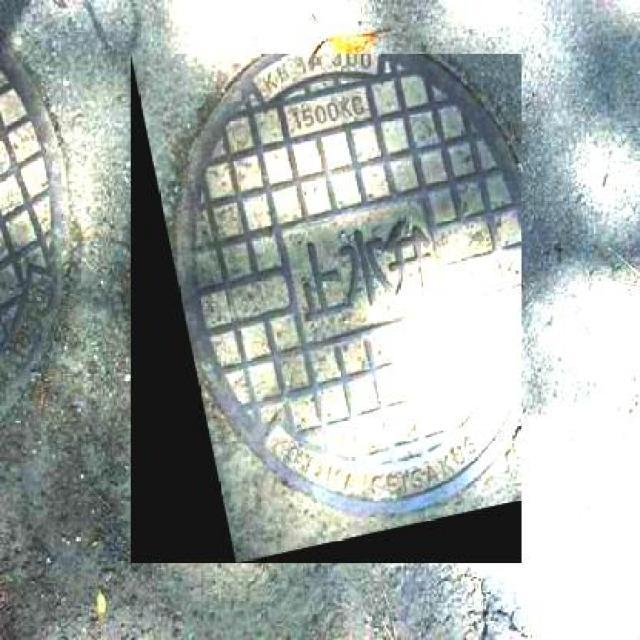Manhole: (130, 54, 522, 563), (0, 31, 101, 418)
